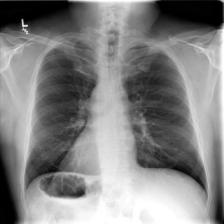normal: (21, 33, 212, 210)
